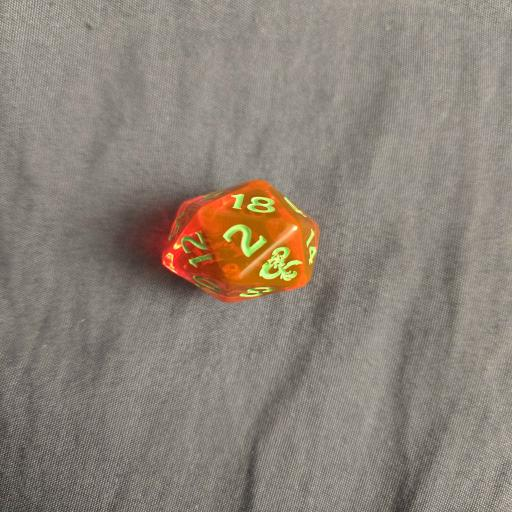twenty sided dice: (161, 179, 319, 303)
